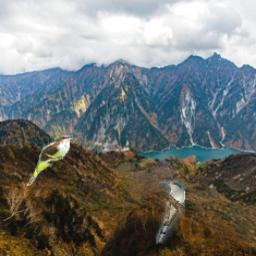Cuckoo: (27, 136, 74, 187), (157, 180, 186, 244)
